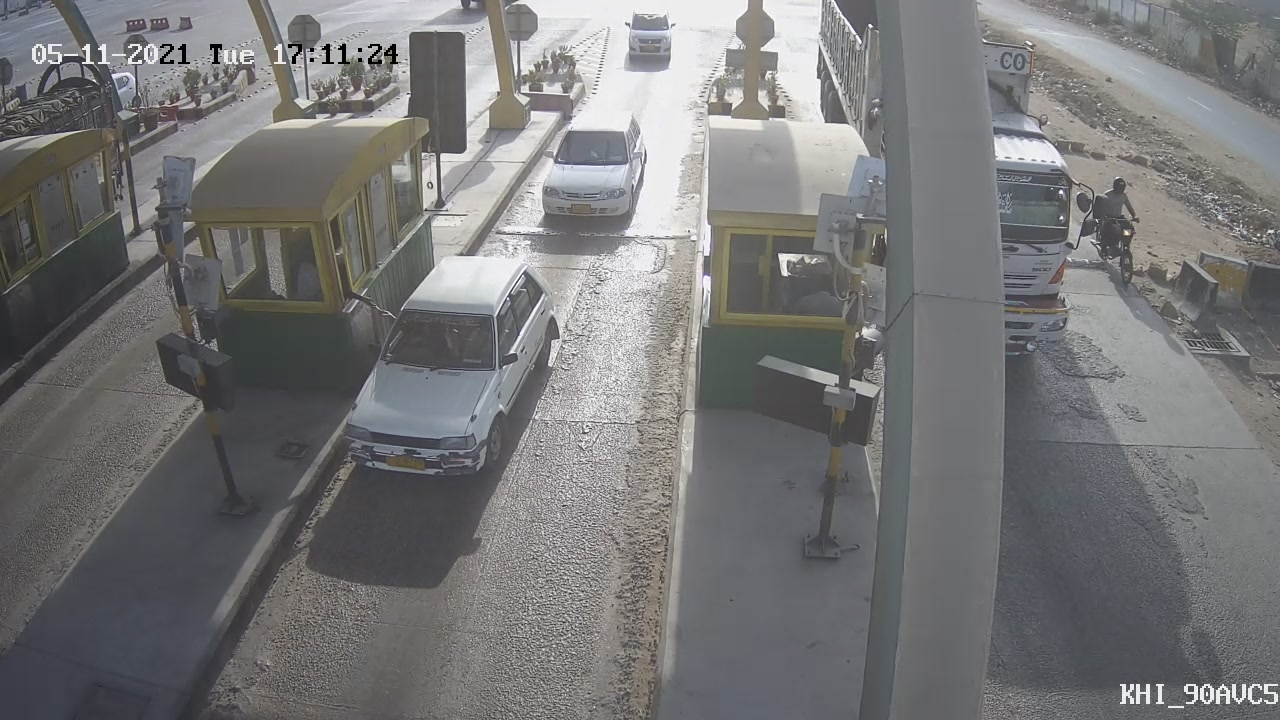F1: (322, 239, 582, 500), (525, 99, 663, 236)
